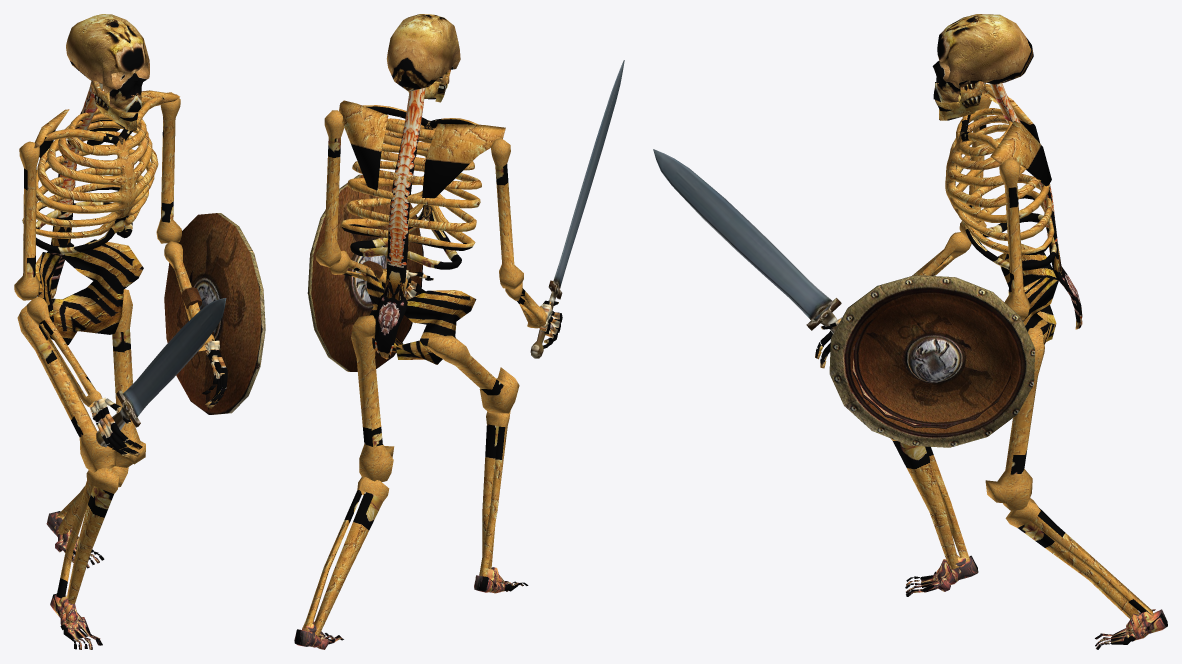
File: Skeleton_000017.obj
3 renders of one model, left to right at view 1: azimuth 30°, elevation 25°; view 2: azimuth 150°, elevation 25°; view 3: azimuth 270°, elevation 25°, orthographic. The views are drawn at different scales.
Parts seen in each view (by area): view 1: Costillar, Shield_Shield.001, Coxis, Femur, Skull, Humero, Tibia, Sword, Radio, Hands, Feet, Omoplato (+1 smaller); view 2: Costillar, Shield_Shield.001, Tibia, Femur, Omoplato, Humero, Skull, Coxis, Sword, Radio, Feet, Hands; view 3: Shield_Shield.001, Costillar, Tibia, Sword, Skull, Femur, Humero, Feet, Omoplato, Coxis, Mandibula, Radio.
Part boxes in pixels (x1,y1,x2,y2): Costillar: (22, 82, 164, 298); Shield_Shield.001: (164, 213, 265, 414); Coxis: (35, 239, 143, 345); Femur: (17, 289, 145, 473); Skull: (66, 14, 149, 112); Humero: (14, 92, 181, 300); Tibia: (56, 466, 128, 603); Sword: (96, 298, 226, 447); Radio: (26, 241, 214, 407); Hands: (90, 339, 227, 457); Feet: (46, 511, 104, 649); Omoplato: (34, 90, 179, 161); Costillar: (341, 87, 481, 359); Shield_Shield.001: (307, 174, 423, 371); Tibia: (303, 411, 510, 636); Femur: (351, 315, 519, 481); Omoplato: (339, 100, 505, 198); Humero: (315, 110, 523, 289); Skull: (386, 14, 460, 91); Coxis: (366, 268, 476, 364); Sword: (530, 60, 624, 358); Radio: (330, 250, 546, 328); Feet: (294, 567, 528, 649); Hands: (404, 270, 562, 348); Shield_Shield.001: (829, 275, 1035, 447); Costillar: (945, 83, 1082, 329); Tibia: (890, 438, 1152, 618); Sword: (653, 149, 841, 333); Skull: (932, 14, 1033, 102); Femur: (985, 327, 1044, 510); Humero: (959, 94, 1030, 320); Feet: (905, 555, 1167, 649); Omoplato: (974, 83, 1051, 186); Coxis: (998, 243, 1058, 344); Mandibula: (935, 80, 985, 120); Radio: (912, 232, 971, 275).
Bounding box in the file's own units: 2.83 × 8.34 × 6.37.
Materials: 5 (5 with a texture image).
